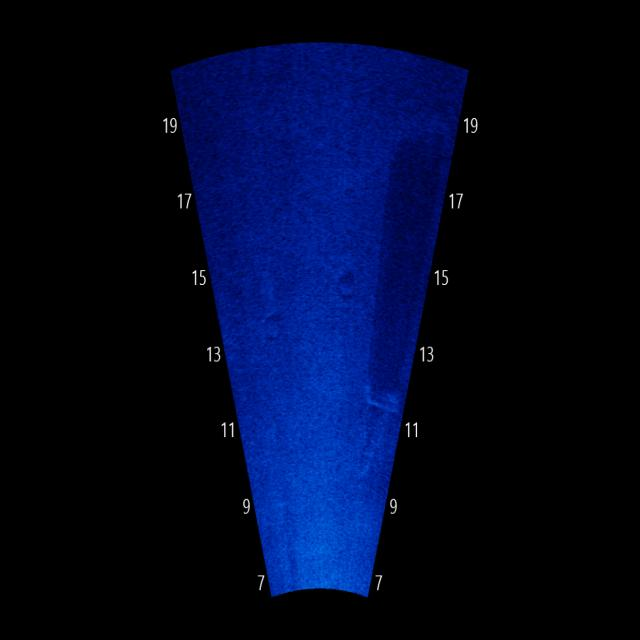triangle: (353, 374, 405, 494)
